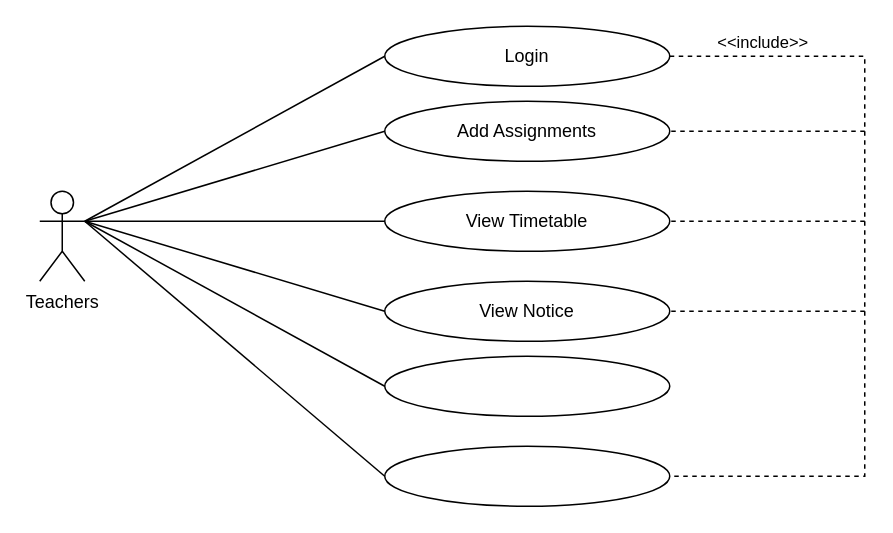
Image size: 893x533. Some labels were removed from this diagram. The shapes that lost their labels are listed below. From the top down, each one's centre as x and y in pixels, then its label:
pixel 526 385: Forget password
pixel 526 475: Logout
